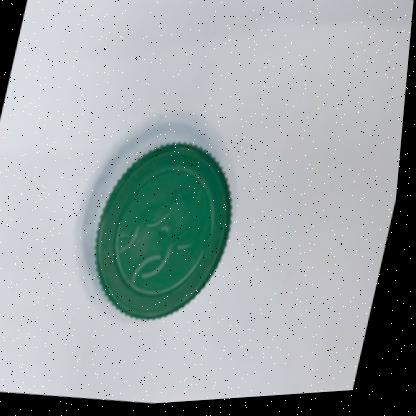Plastic: (99, 145, 236, 322)
